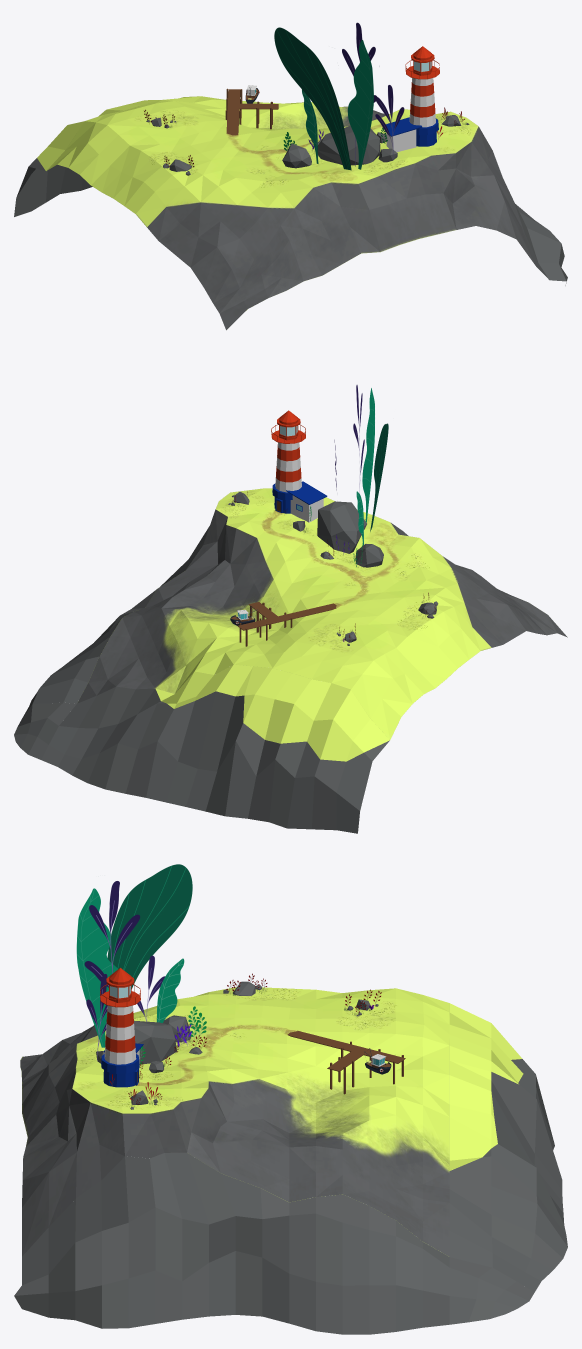
Rendered from island.glb.
3 renders of one model, top to bottom at view 1: azimuth 30°, elevation 25°; view 2: azimuth 150°, elevation 25°; view 3: azimuth 270°, elevation 25°, orthographic. The views are drawn at different scales.
Visible parts, largest first — view 1: Plane.004, leaf_1_1, terrain_2, Cylinder, leaf_2_1, terrain_1, stone.018, Plane.002, leaf_3_2, stone.011, Cube, leaf_2_2 (+1 smaller); view 2: Plane.004, terrain_2, terrain_1, Cylinder, terrain_3, stone.018, leaf_2_1, leaf_1_1, Plane.002; view 3: Plane.004, terrain_1, terrain_2, leaf_1_1, terrain_3, Cylinder, leaf_2_1, stone.018, leaf_3_1, leaf_2_2, Plane.002.
Part boxes in pixels (left/top/right/bottom): Plane.004: left=47, top=96, right=535, bottom=330; leaf_1_1: left=274, top=27, right=351, bottom=170; terrain_2: left=14, top=96, right=198, bottom=216; Cylinder: left=405, top=46, right=439, bottom=146; leaf_2_1: left=348, top=40, right=373, bottom=169; terrain_1: left=514, top=202, right=567, bottom=285; stone.018: left=317, top=126, right=380, bottom=165; Plane.002: left=226, top=89, right=240, bottom=135; leaf_3_2: left=375, top=85, right=404, bottom=158; stone.011: left=282, top=143, right=311, bottom=168; Cube: left=386, top=129, right=416, bottom=152; leaf_2_2: left=302, top=89, right=318, bottom=163; Plane.004: left=77, top=488, right=567, bottom=739; terrain_2: left=41, top=664, right=389, bottom=833; terrain_1: left=22, top=526, right=209, bottom=718; Cylinder: left=271, top=410, right=305, bottom=513; terrain_3: left=14, top=702, right=76, bottom=759; stone.018: left=317, top=501, right=366, bottom=553; leaf_2_1: left=362, top=388, right=374, bottom=522; leaf_1_1: left=370, top=423, right=388, bottom=531; Plane.002: left=238, top=603, right=336, bottom=630; Plane.004: left=20, top=987, right=449, bottom=1256; terrain_1: left=14, top=1152, right=449, bottom=1334; terrain_2: left=449, top=1003, right=567, bottom=1292; leaf_1_1: left=106, top=864, right=192, bottom=1023; terrain_3: left=449, top=1257, right=534, bottom=1324; Cylinder: left=100, top=968, right=140, bottom=1087; leaf_2_1: left=76, top=888, right=117, bottom=1047; stone.018: left=134, top=1020, right=176, bottom=1064; leaf_3_1: left=84, top=881, right=140, bottom=987; leaf_2_2: left=156, top=958, right=184, bottom=1023; Plane.002: left=287, top=1030, right=405, bottom=1063.
Bounding box in the file's own units: 18.5 × 12.85 × 19.43.
41 materials, 29 textured.
